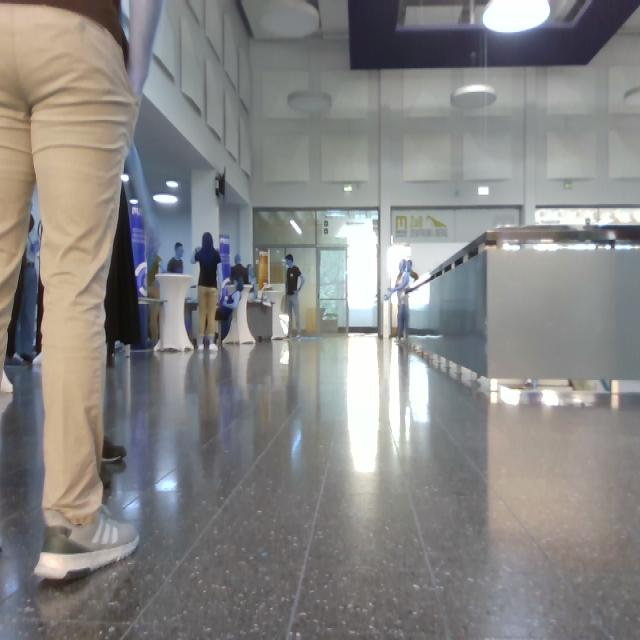desk: (248, 292, 287, 341)
light bulb: (484, 1, 551, 33), (451, 85, 495, 110), (288, 92, 332, 113), (154, 181, 179, 205), (290, 220, 302, 234), (123, 174, 130, 182)
person: (1, 1, 139, 578), (195, 233, 221, 348), (391, 261, 417, 340), (286, 254, 304, 336), (223, 256, 247, 305), (168, 242, 184, 273)
staircase: (408, 226, 640, 406)
table: (156, 274, 193, 352), (224, 286, 255, 344)
tiled floor: (1, 337, 640, 640)
